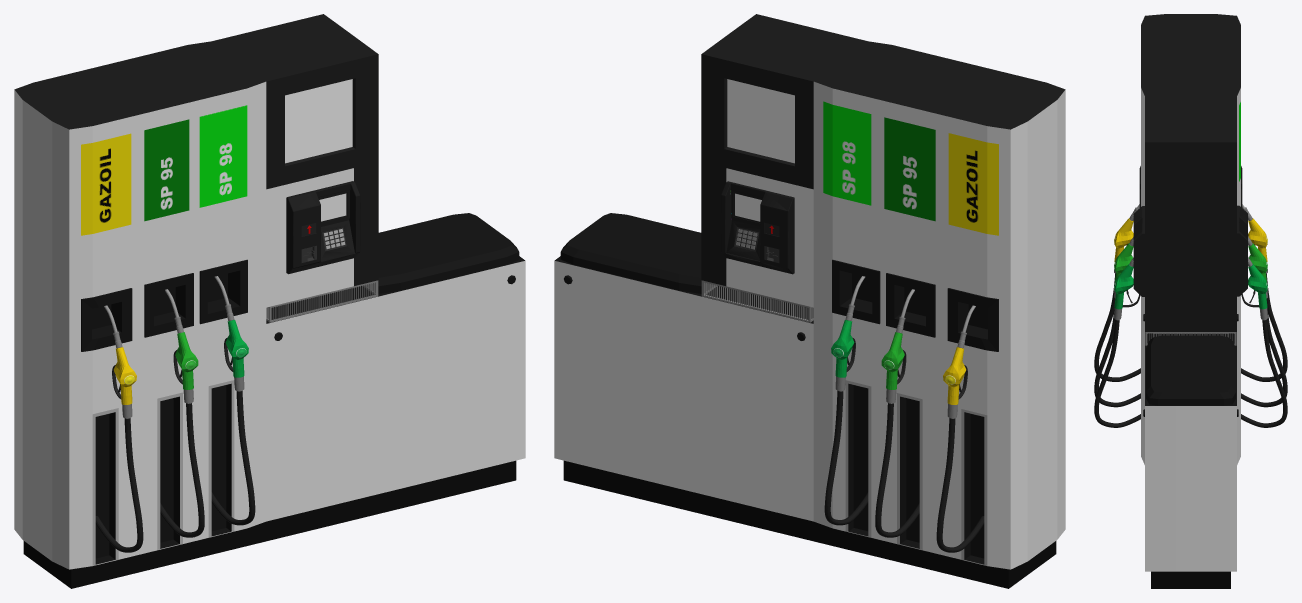
File: pompeessence.obj
3 renders of one model, left to right at view 1: azimuth 30°, elevation 25°; view 2: azimuth 150°, elevation 25°; view 3: azimuth 270°, elevation 25°, orthographic. The views are drawn at different scales.
Parts seen in each view (by area): view 1: gazoil; view 2: gazoil; view 3: gazoil.
Part boxes in pixels (x1=…): gazoil: x1=14, y1=14, x2=525, y2=588; gazoil: x1=554, y1=14, x2=1065, y2=588; gazoil: x1=1094, y1=14, x2=1287, y2=588.
Size of the model in its own units: 2.71 by 2.6 by 1.17.
2 materials, 2 textured.
